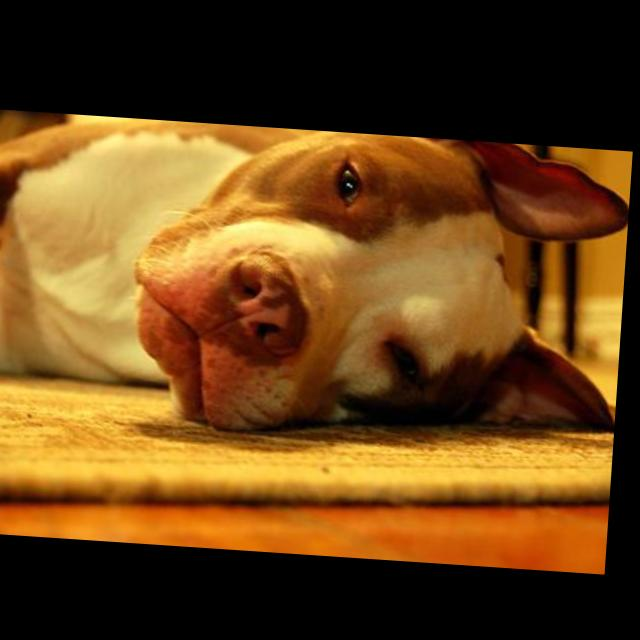amstaff: (1, 110, 635, 448)
